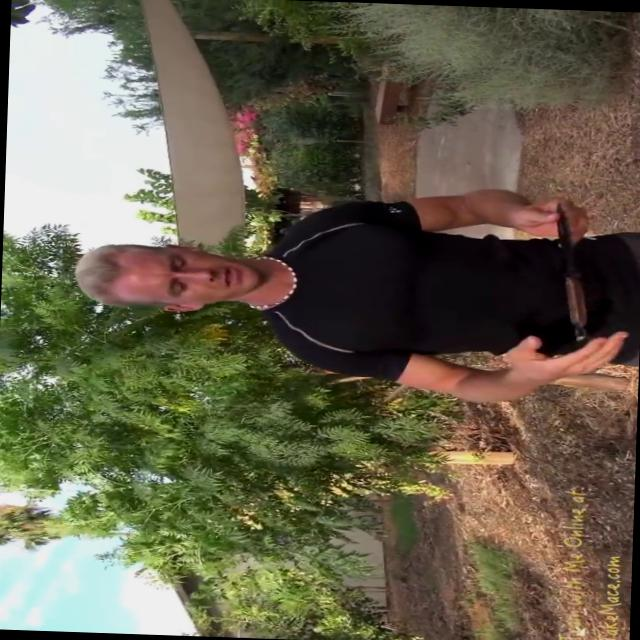knife: (545, 200, 614, 346)
